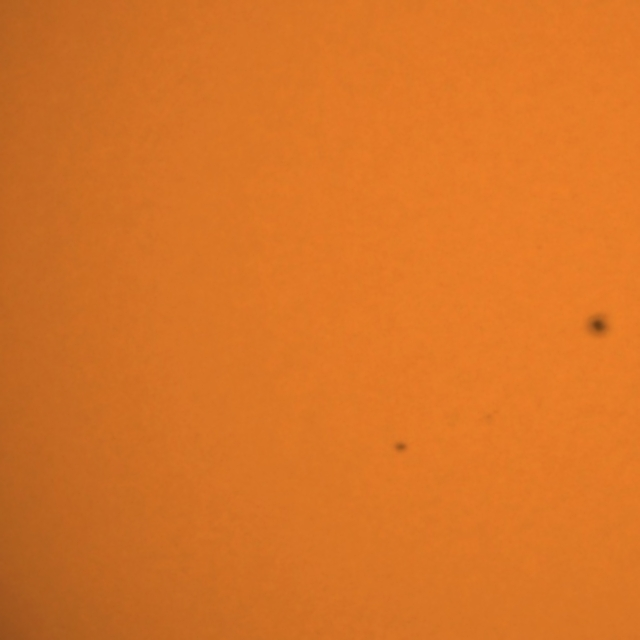sunspot: (584, 310, 614, 341), (391, 439, 410, 456)
